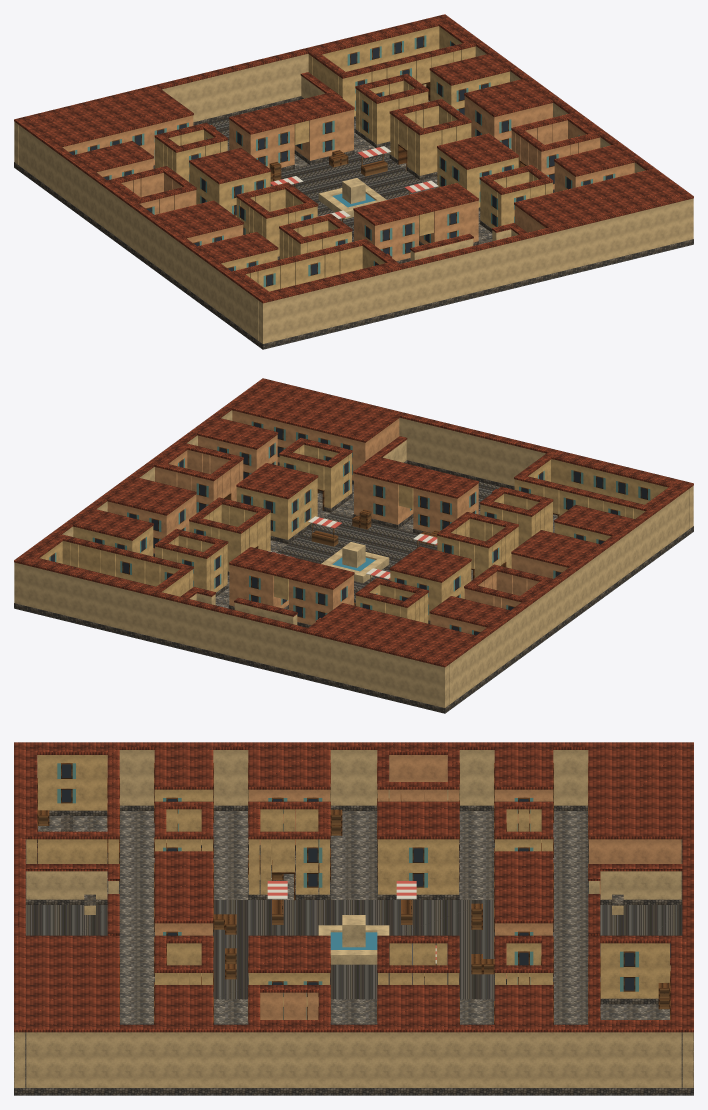
The model's file is map_piazza.glb.
3 views of the same model, one above another, from view 1: azimuth 30°, elevation 25°; view 2: azimuth 150°, elevation 25°; view 3: azimuth 270°, elevation 25° (orthographic). The views are drawn at different scales.
Visible parts, largest first — view 1: map; view 2: map; view 3: map.
Part boxes in pixels (left/top/right/bottom): map: left=14, top=14, right=693, bottom=349; map: left=14, top=378, right=693, bottom=713; map: left=14, top=742, right=693, bottom=1095.
Size of the model in its own units: 58 by 6.2 by 58.
15 materials, 10 textured.
